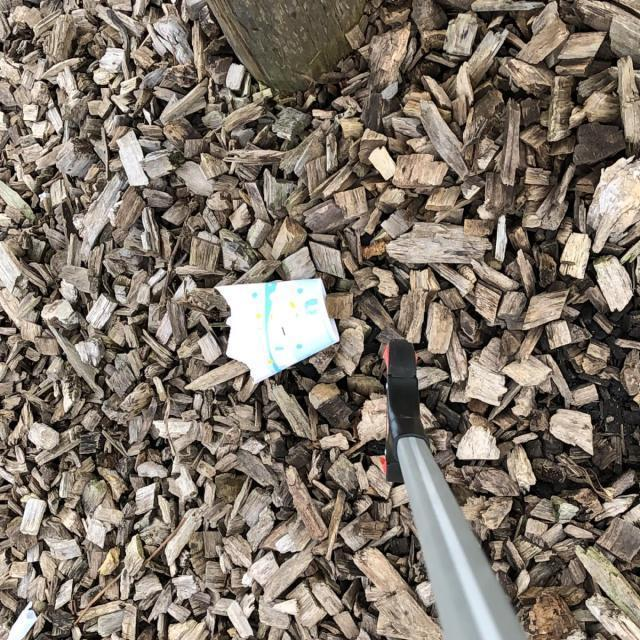Paper: (213, 276, 340, 386)
